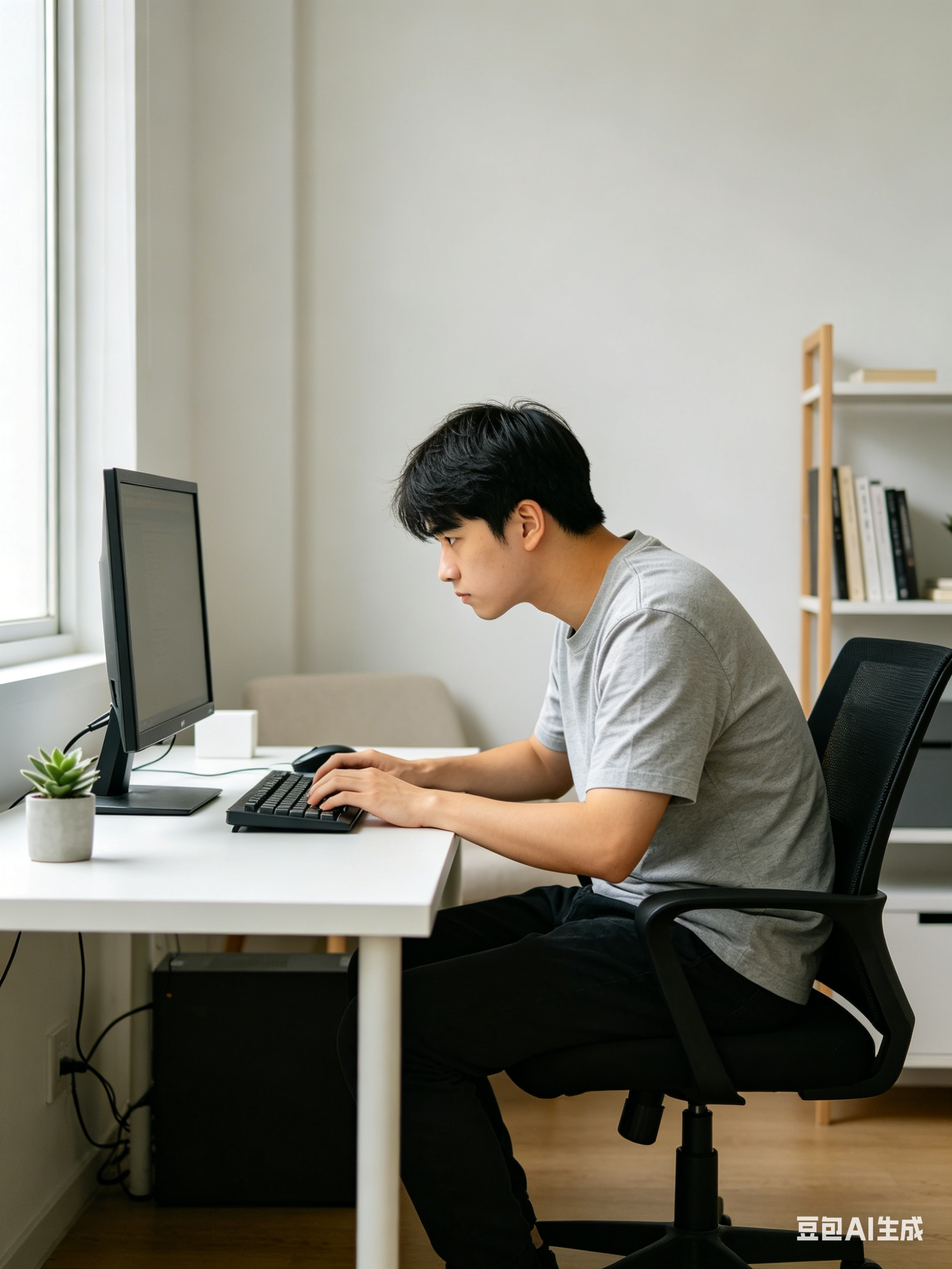sitting_bad: (323, 408, 806, 1244)
